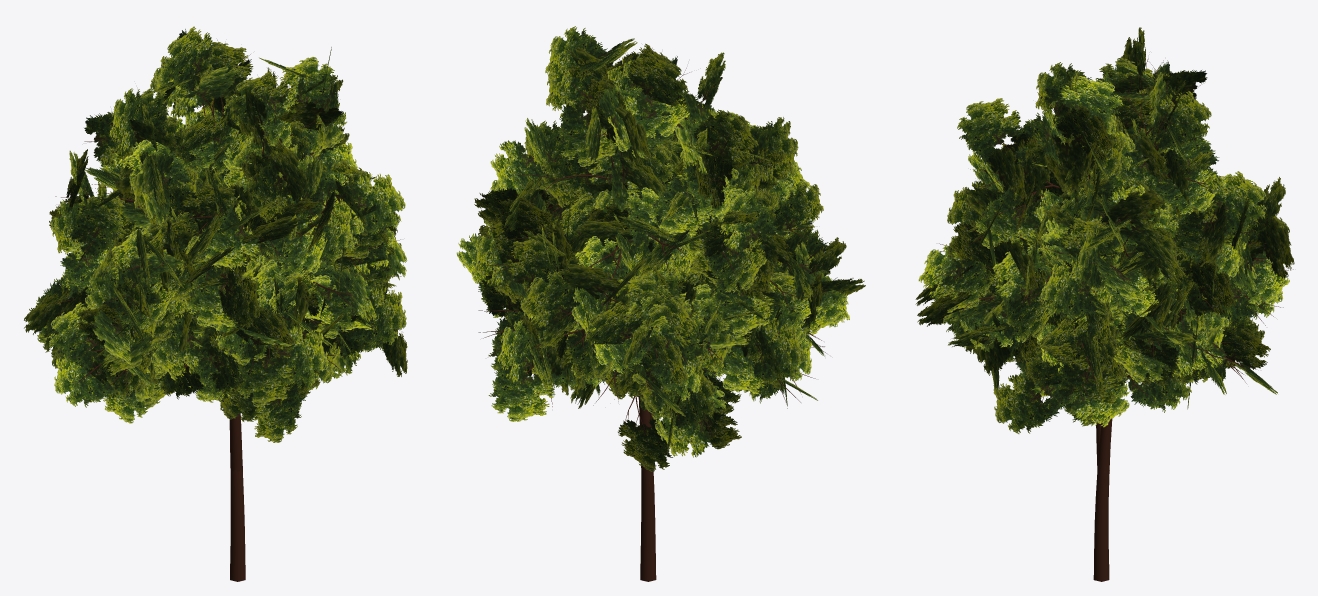
The model's file is Arbol.fbx.
3 views of the same model, side by side, from view 1: azimuth 30°, elevation 25°; view 2: azimuth 150°, elevation 25°; view 3: azimuth 270°, elevation 25° (orthographic).
Visible parts, largest first — view 1: Hojas.001; view 2: Hojas.001; view 3: Hojas.001.
Boxes of the visible parts, x1,y1,x2,y2 form: Hojas.001: [24, 26, 407, 581]; Hojas.001: [456, 26, 865, 581]; Hojas.001: [915, 27, 1294, 581].
Bounding box in the file's own units: 506 × 741 × 488.
